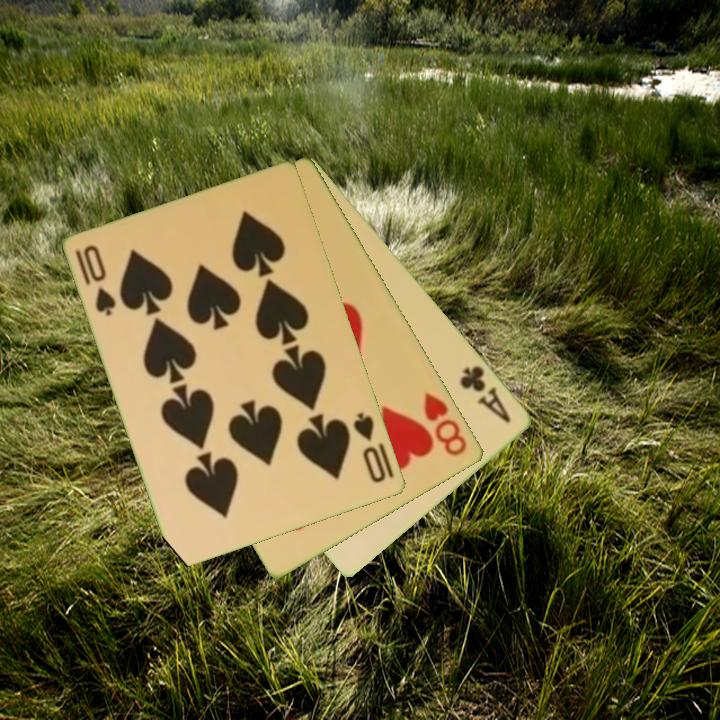10s: (72, 241, 120, 319), (350, 409, 390, 486)
8h: (421, 388, 471, 460)
Ac: (457, 362, 515, 426)
